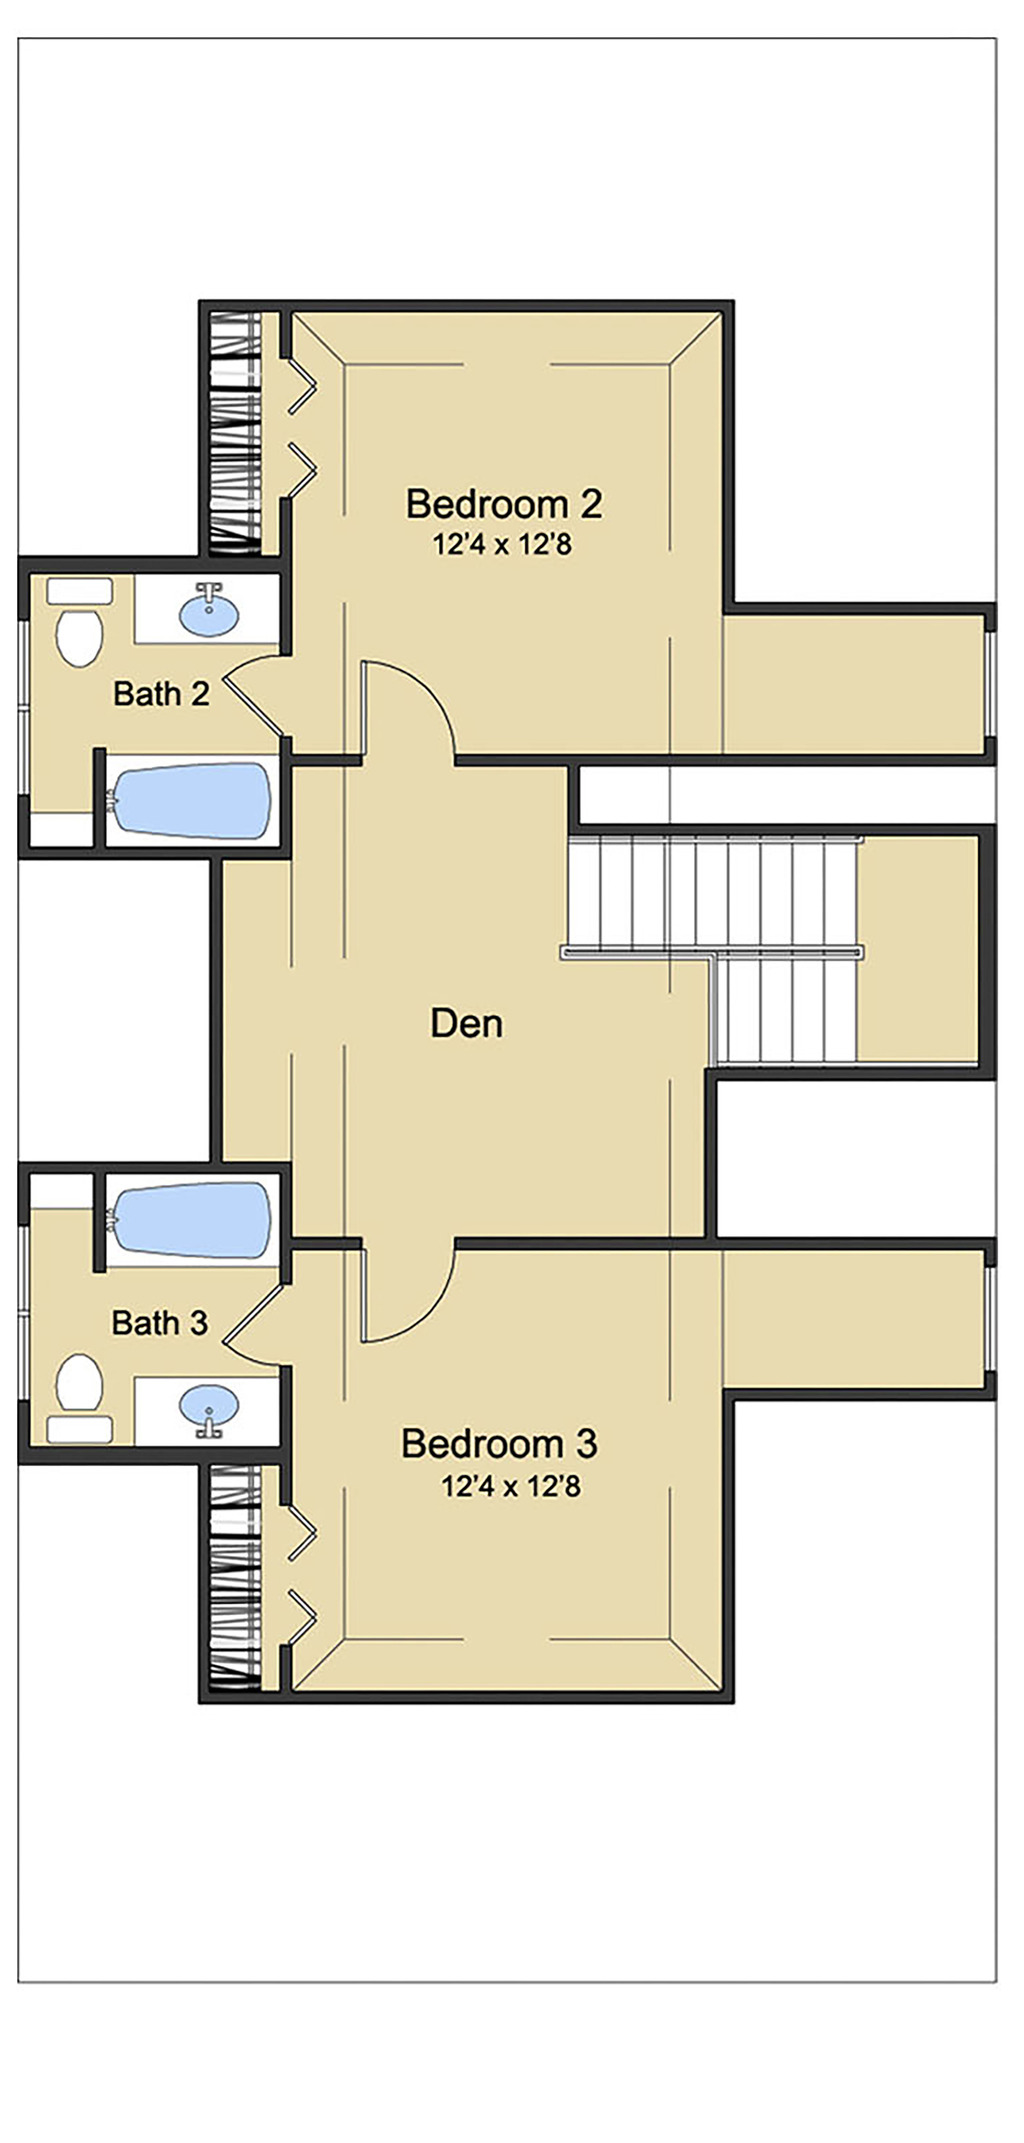door: (345, 655, 474, 771), (354, 1237, 474, 1337), (217, 644, 290, 743), (221, 1274, 295, 1369)
large_sink: (31, 1339, 118, 1456), (38, 571, 120, 668)
small_sink: (129, 1367, 290, 1456), (126, 574, 293, 651)
stairs: (558, 828, 874, 1067)
tub: (101, 749, 295, 851), (94, 1171, 283, 1267)
windows: (972, 626, 1010, 737)
